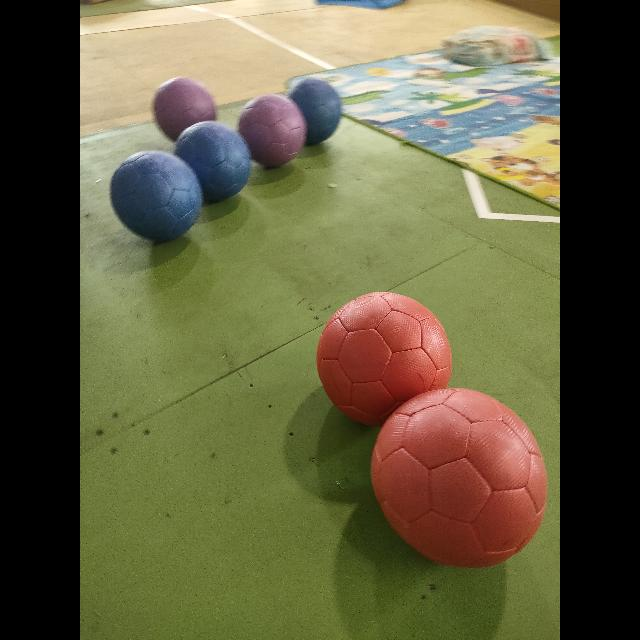B: (110, 152, 202, 240), (289, 78, 341, 144)
P: (238, 95, 306, 167), (154, 78, 216, 138)
R: (372, 388, 546, 568), (316, 288, 448, 424)
